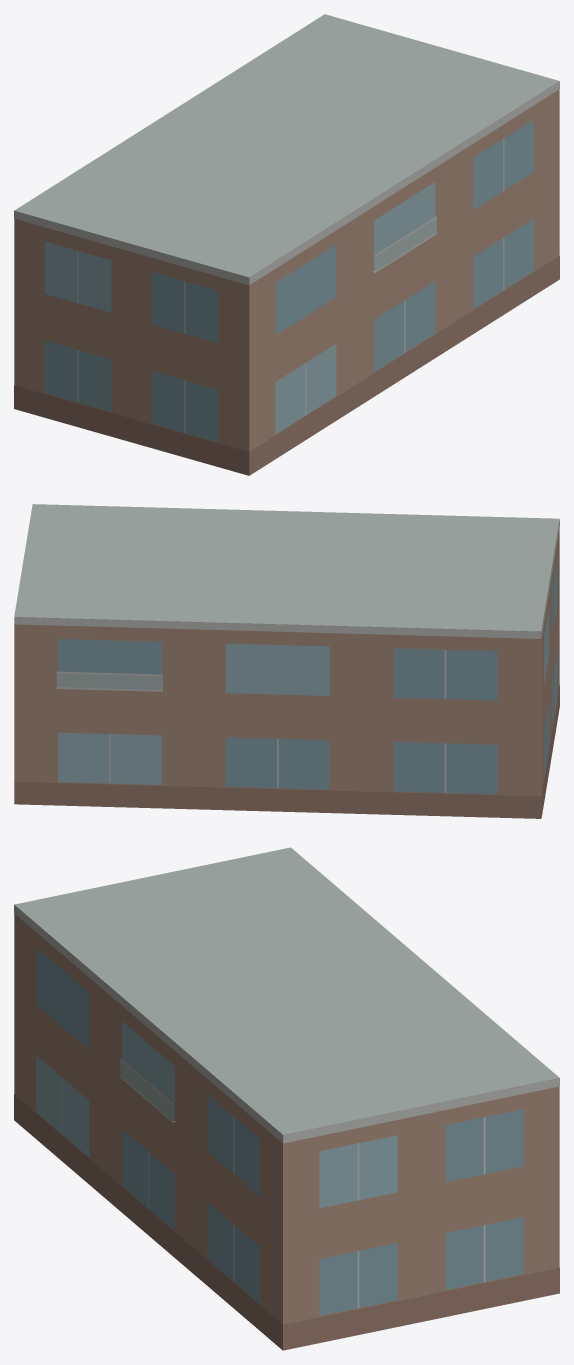
File: survey-upis-32704805.glb
3 views of the same model, one above another, from view 1: azimuth 30°, elevation 25°; view 2: azimuth 150°, elevation 25°; view 3: azimuth 270°, elevation 25° (orthographic). The views are drawn at different scales.
Visible parts, largest first — view 1: survey-upis-32704805.tmp; view 2: survey-upis-32704805.tmp; view 3: survey-upis-32704805.tmp.
Boxes of the visible parts, x1,y1,x2,y2 form: survey-upis-32704805.tmp: (14, 14, 559, 475); survey-upis-32704805.tmp: (14, 504, 559, 818); survey-upis-32704805.tmp: (14, 847, 559, 1350).
Size of the model in its own units: 17.46 by 6.1 by 14.
